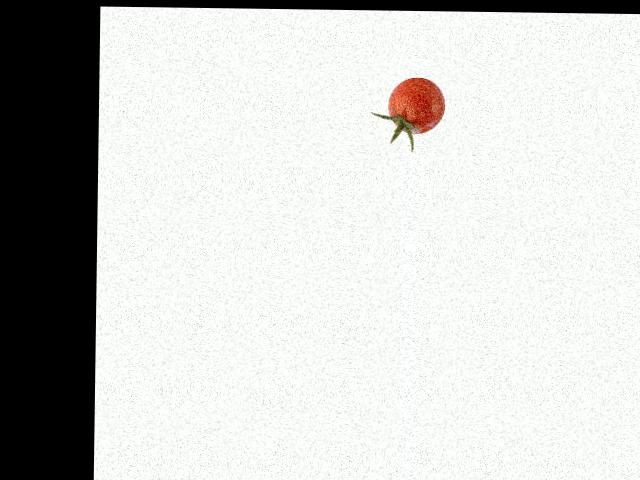tomato: (389, 76, 446, 133)
